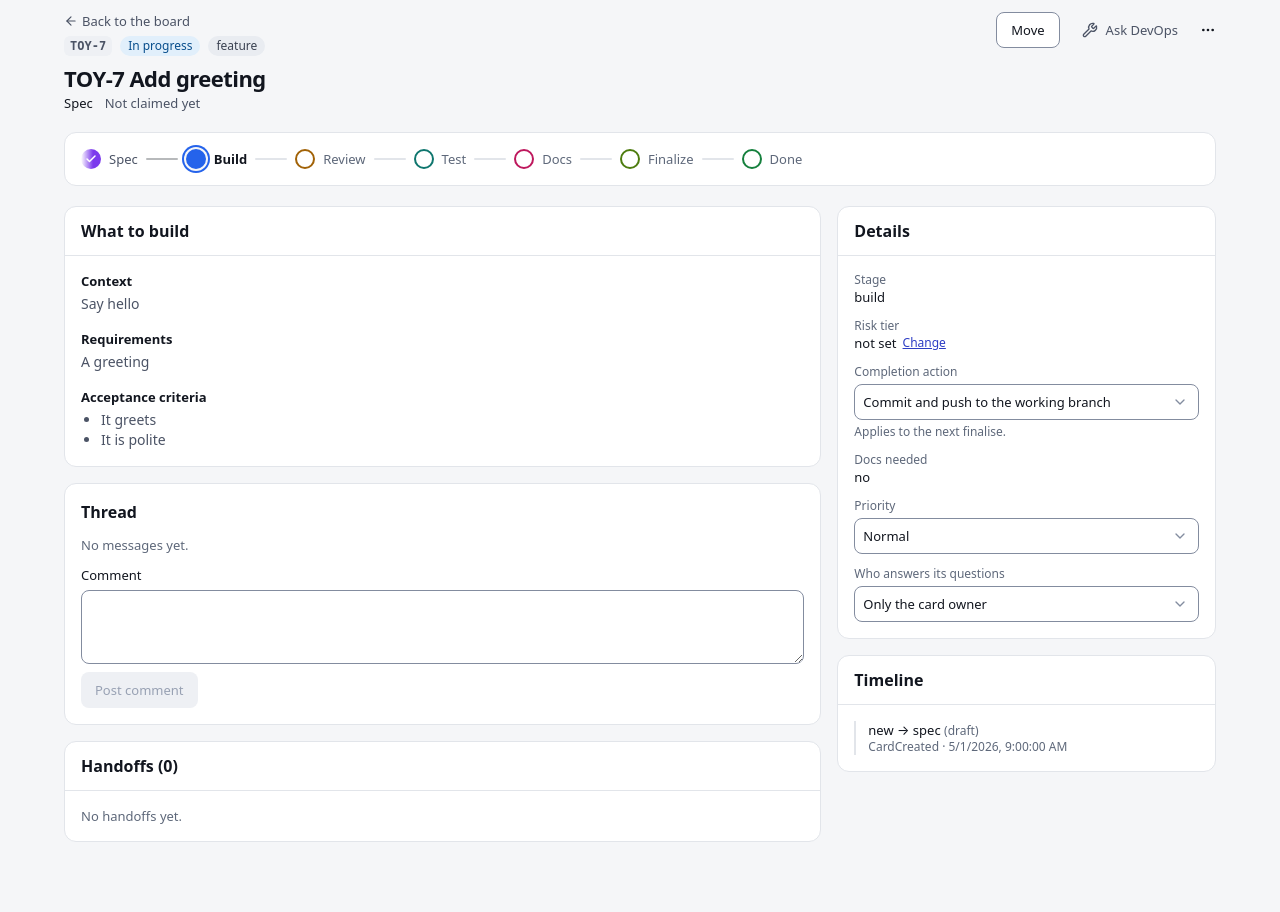
Scenario: priority and completion action in place (#54) › shows the server refusal next to the control
Select "Pull request" in the dropdown with test id "card-completion" at (1027, 402), box [854,384,1199,420]
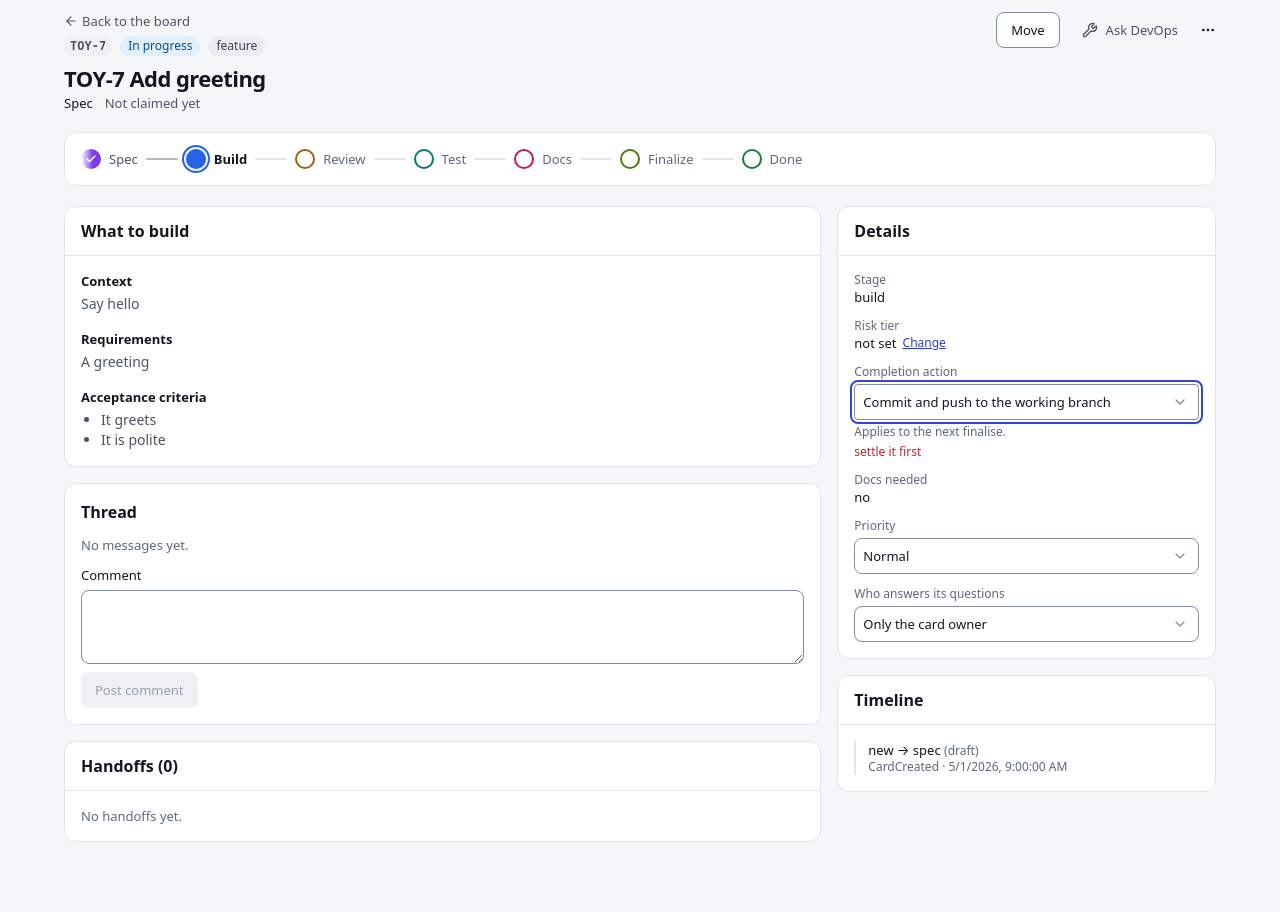
Expected: the text "settle it first" is shown, [854,443,921,460]
